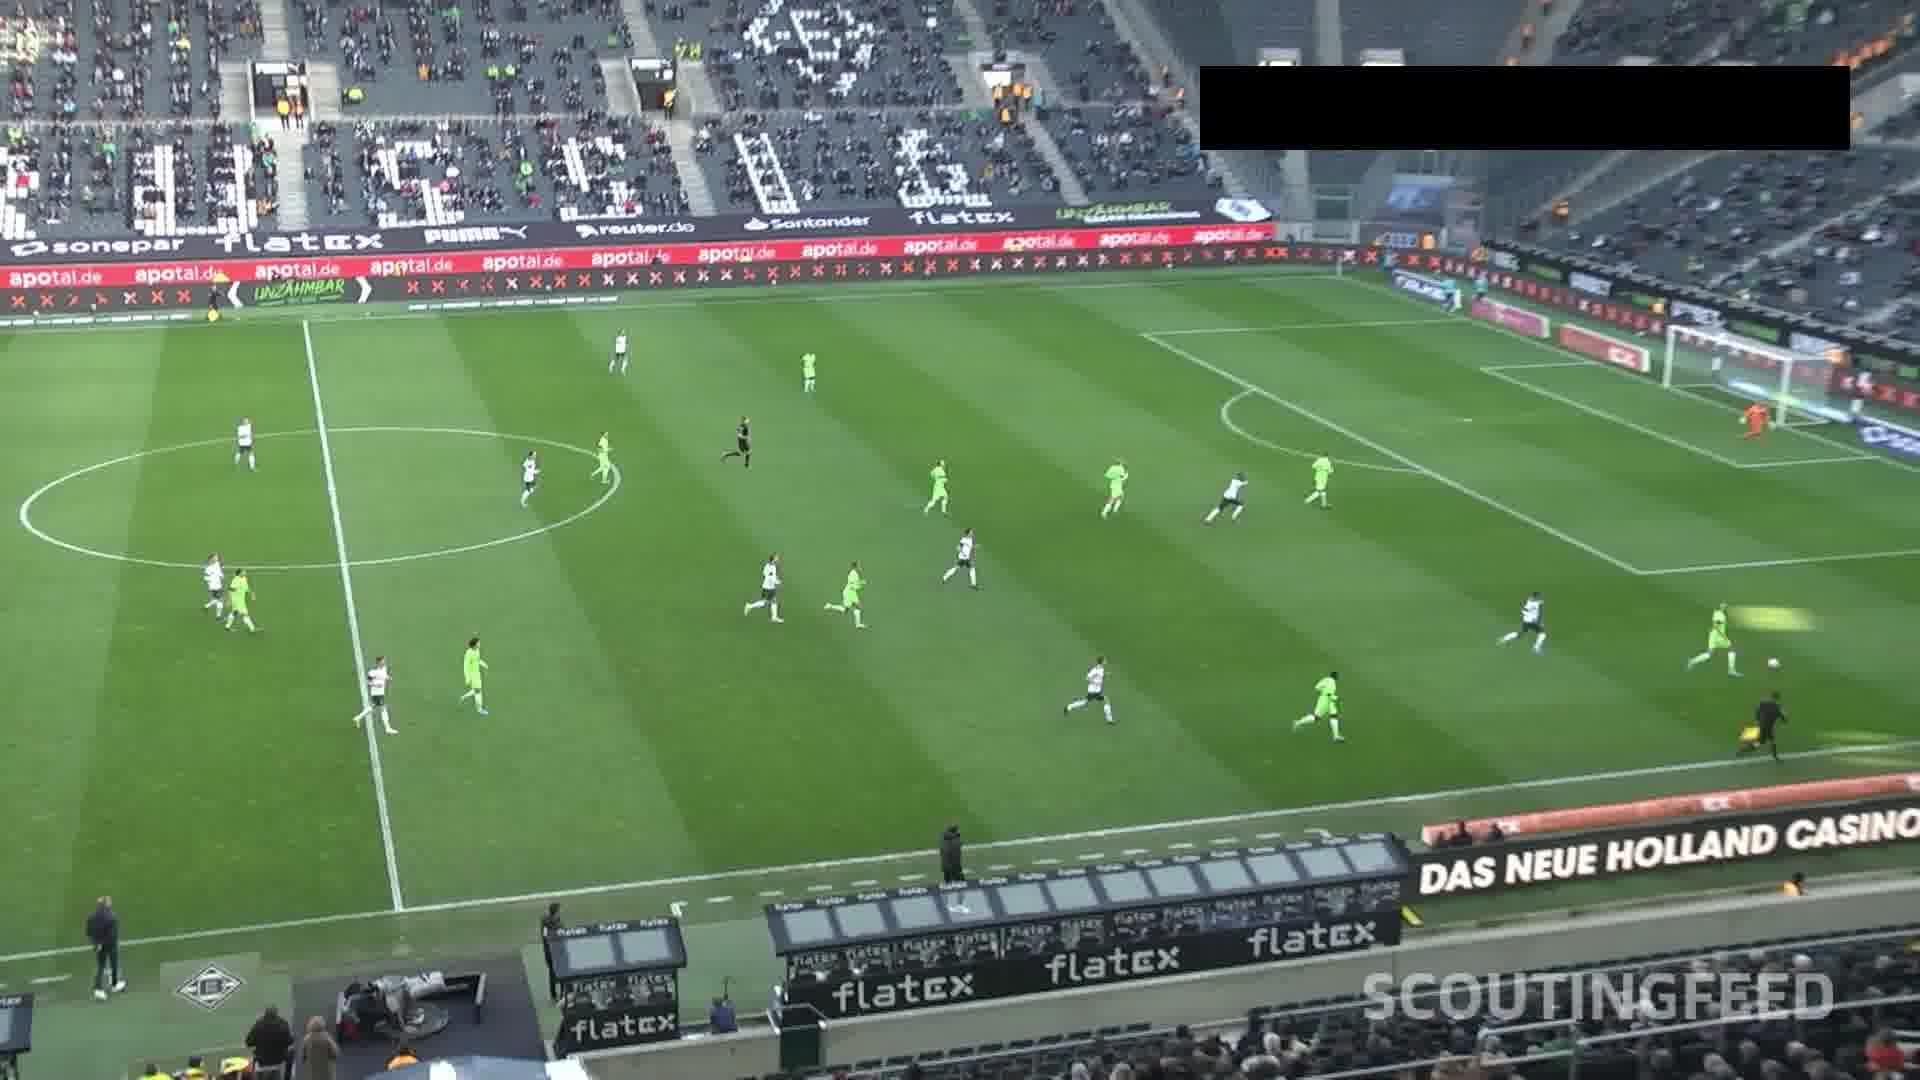football: (1767, 655, 1783, 673)
